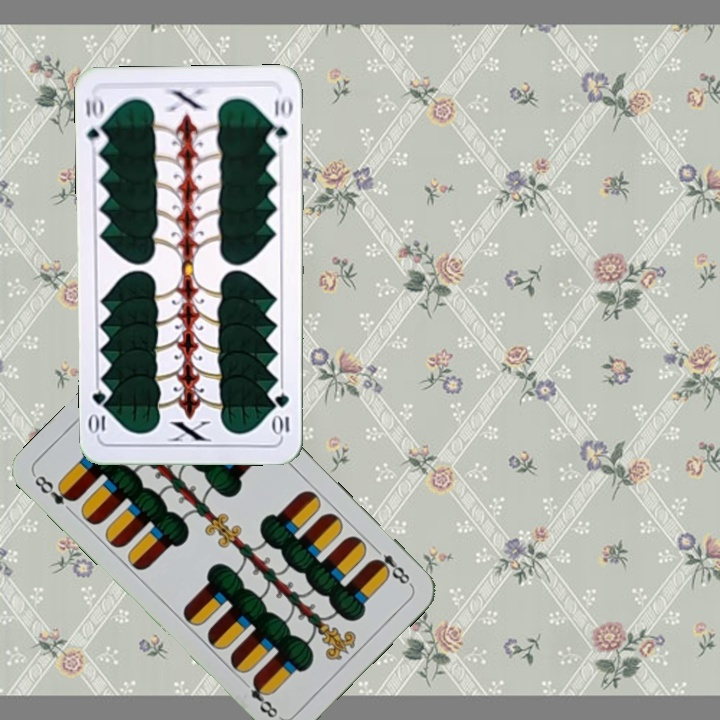E8: (368, 542, 414, 588), (30, 471, 79, 508)
G10: (81, 92, 109, 151), (271, 389, 292, 438)
